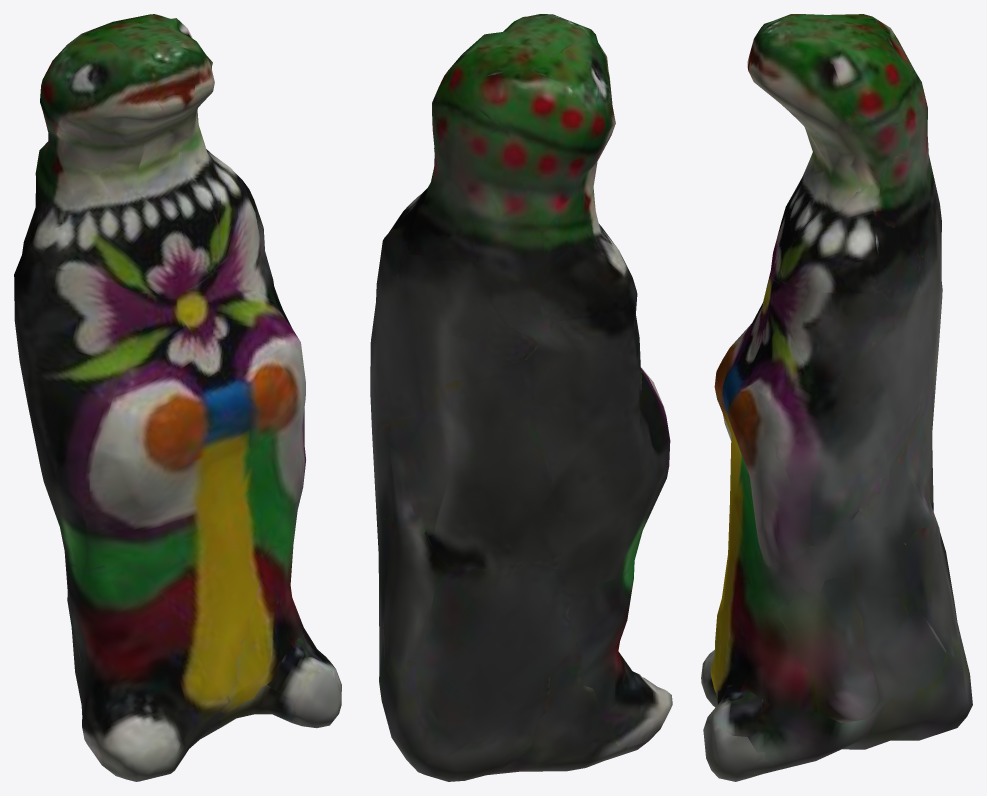
The model's file is hall.glb.
The picture shows the model from 3 angles, left to right: view 1: azimuth 30°, elevation 25°; view 2: azimuth 150°, elevation 25°; view 3: azimuth 270°, elevation 25°; orthographic projection. The views are drawn at different scales.
Bounding box in the file's own units: 0.3406 × 0.8729 × 0.3018.
1 material, 1 textured.
